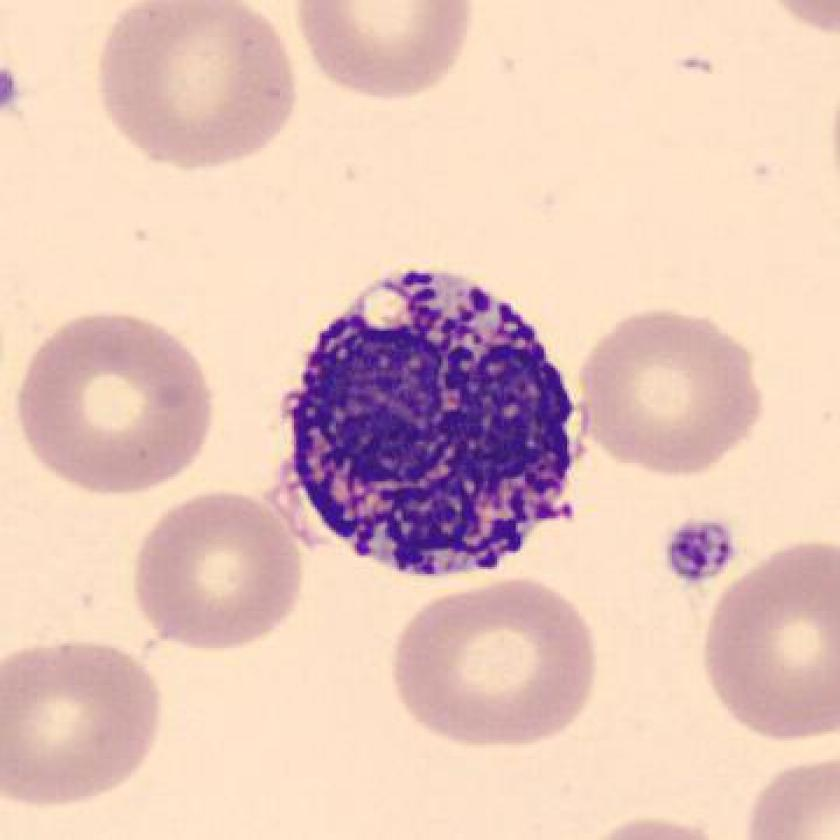basophil: (281, 258, 587, 591)
